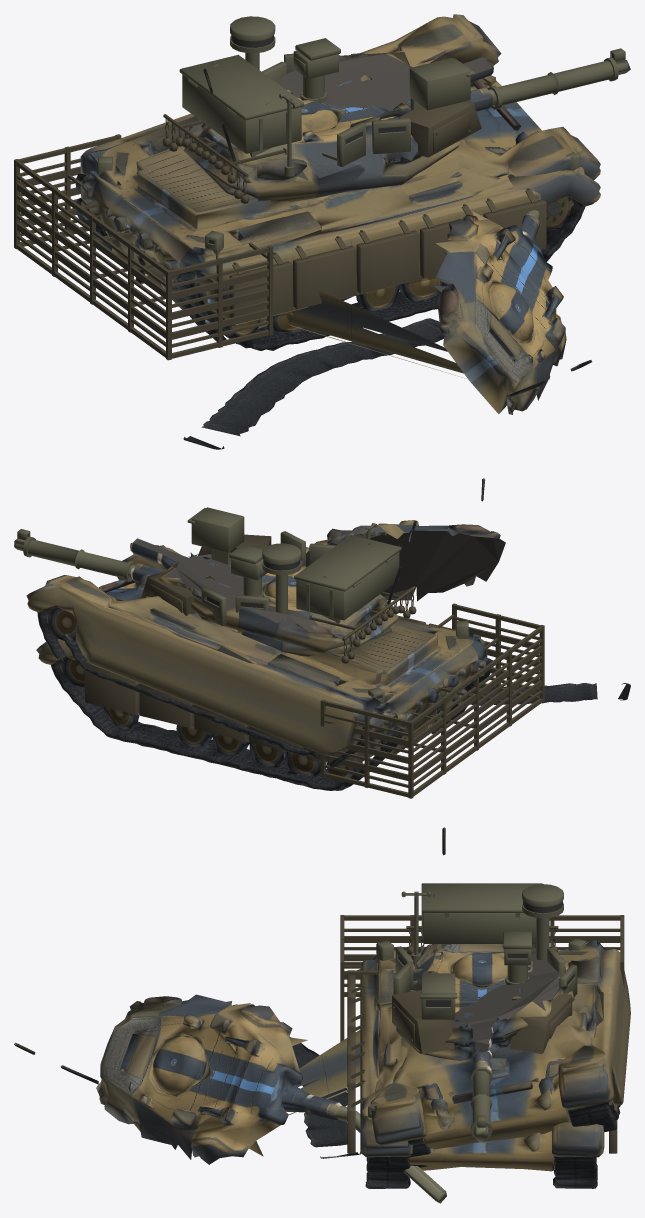
Rendered from mbt_lavi.glb.
The picture shows the model from 3 angles, top to bottom: view 1: azimuth 30°, elevation 25°; view 2: azimuth 150°, elevation 25°; view 3: azimuth 270°, elevation 25°; orthographic projection. The views are drawn at different scales.
Parts seen in each view (by area): view 1: hull_hull, WRECK_hull_hull, WRECK_turret_hull, kit_armour_2_hull_hull, kit_armour_3_hull_hull, kit_firepower_3_turret_hull, turret_hull, kit_armour_3_hull_hull_far, WRECK_hull_rubber, kit_armour_3_hull_hull_near, hull_rubber, kit_firepower_2_turret_metal (+9 smaller); view 2: WRECK_hull_hull, hull_hull, WRECK_turret_hull, hull_rubber, kit_armour_3_hull_hull, kit_firepower_3_turret_hull, kit_armour_3_hull_hull_far, kit_armour_3_hull_hull_near, kit_armour_2_hull_hull, WRECK_hull_rubber, turret_hull, kit_firepower_2_turret_metal (+7 smaller); view 3: WRECK_hull_hull, WRECK_turret_hull, hull_hull, kit_firepower_3_turret_hull, turret_hull, kit_armour_1_turret_hull, WRECK_turret_metal, kit_armour_3_hull_hull, kit_armour_2_hull_hull, kit_firepower_2_turret_metal, WRECK_hull_rubber, kit_sensors_3_turret_metal (+8 smaller).
Part boxes in pixels (x1,y1,x2,y2): hull_hull: (76,95,600,334); WRECK_hull_hull: (75,14,600,378); WRECK_turret_hull: (434,211,566,414); kit_armour_2_hull_hull: (229,188,546,317); kit_armour_3_hull_hull: (14,134,273,360); kit_firepower_3_turret_hull: (179,54,303,157); turret_hull: (185,75,417,183); kit_armour_3_hull_hull_far: (17,166,268,339); WRECK_hull_rubber: (183,295,444,449); kit_armour_3_hull_hull_near: (17,158,268,347); hull_rubber: (222,249,553,350); kit_firepower_2_turret_metal: (279,57,475,176); WRECK_hull_hull: (26,538,468,767); hull_hull: (36,572,492,776); WRECK_turret_hull: (306,520,505,601); hull_rubber: (79,702,379,790); kit_armour_3_hull_hull: (320,603,544,798); kit_firepower_3_turret_hull: (294,535,401,623); kit_armour_3_hull_hull_far: (324,625,542,780); kit_armour_3_hull_hull_near: (324,617,542,787); kit_armour_2_hull_hull: (84,615,480,761); WRECK_hull_rubber: (62,633,630,757); turret_hull: (203,556,398,644); kit_firepower_2_turret_metal: (187,507,377,564); WRECK_hull_hull: (289,940,630,1167); WRECK_turret_hull: (96,994,307,1164); hull_hull: (360,944,604,1178); kit_firepower_3_turret_hull: (421,883,542,948); turret_hull: (411,944,536,1046); kit_armour_1_turret_hull: (392,990,572,1053); WRECK_turret_metal: (14,1042,446,1203); kit_armour_3_hull_hull: (340,915,624,1041); kit_armour_2_hull_hull: (347,967,617,1153); kit_firepower_2_turret_metal: (401,891,456,1021); WRECK_hull_rubber: (231,1004,620,1158); kit_sensors_3_turret_metal: (522,884,563,959).
Size of the model in its own units: 8.58 by 3.82 by 8.63.
Materials: 1 (1 with a texture image).
